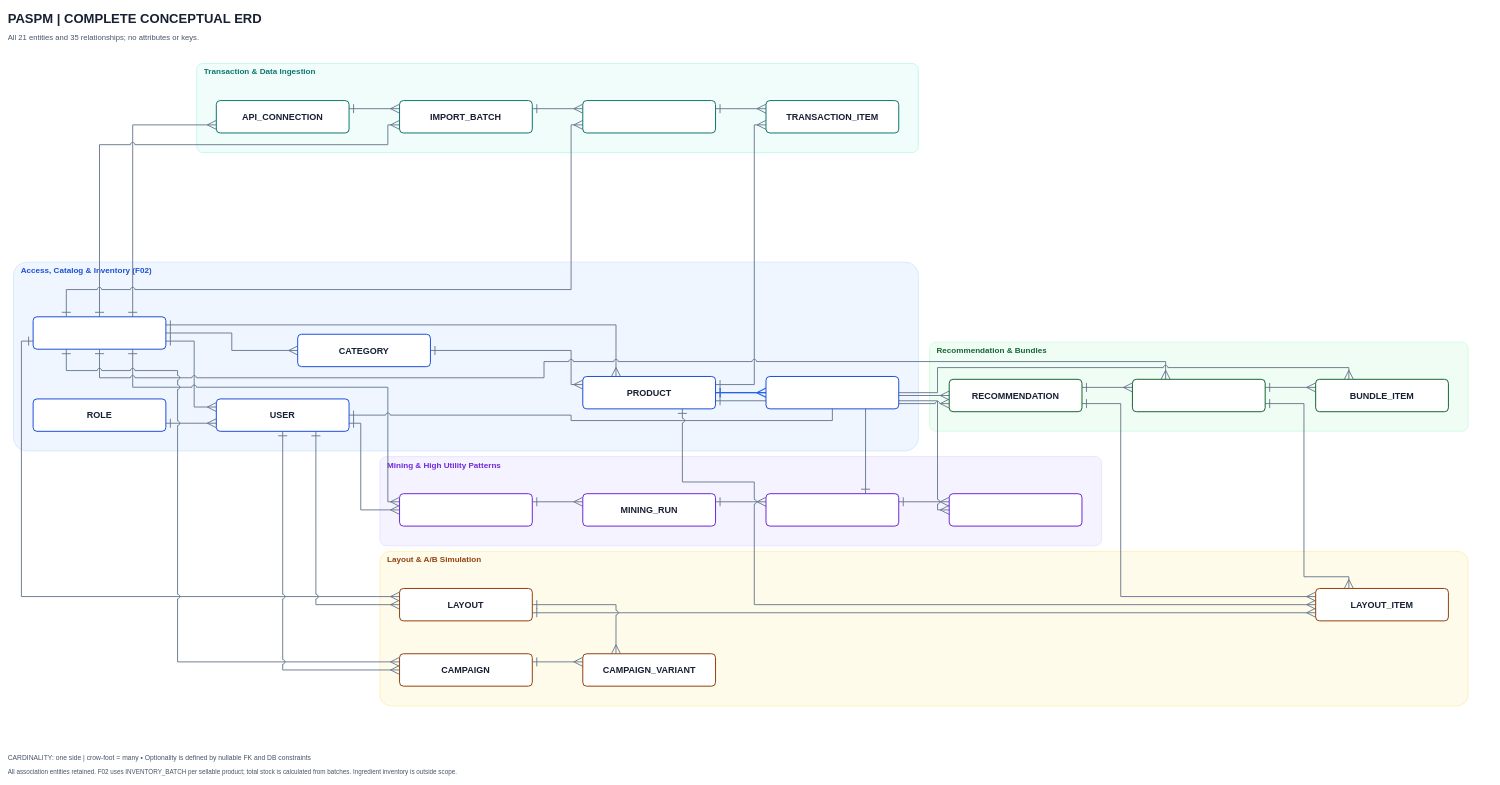
The diagram is 1500 pixels wide and 785 high, and some of its shapes have lost their labels. The centre of each missing label's shape, as x and y in pixels:
"BUNDLE" belongs at (x=1198, y=395).
"HIGH_UTILITY_PATTERN" belongs at (x=832, y=509).
"INVENTORY_BATCH" belongs at (x=832, y=392).
"MINING_REQUEST" belongs at (x=466, y=509).
"PATTERN_ITEM" belongs at (x=1015, y=509).
"SALES_TRANSACTION" belongs at (x=649, y=116).
"STORE" belongs at (x=99, y=332).
